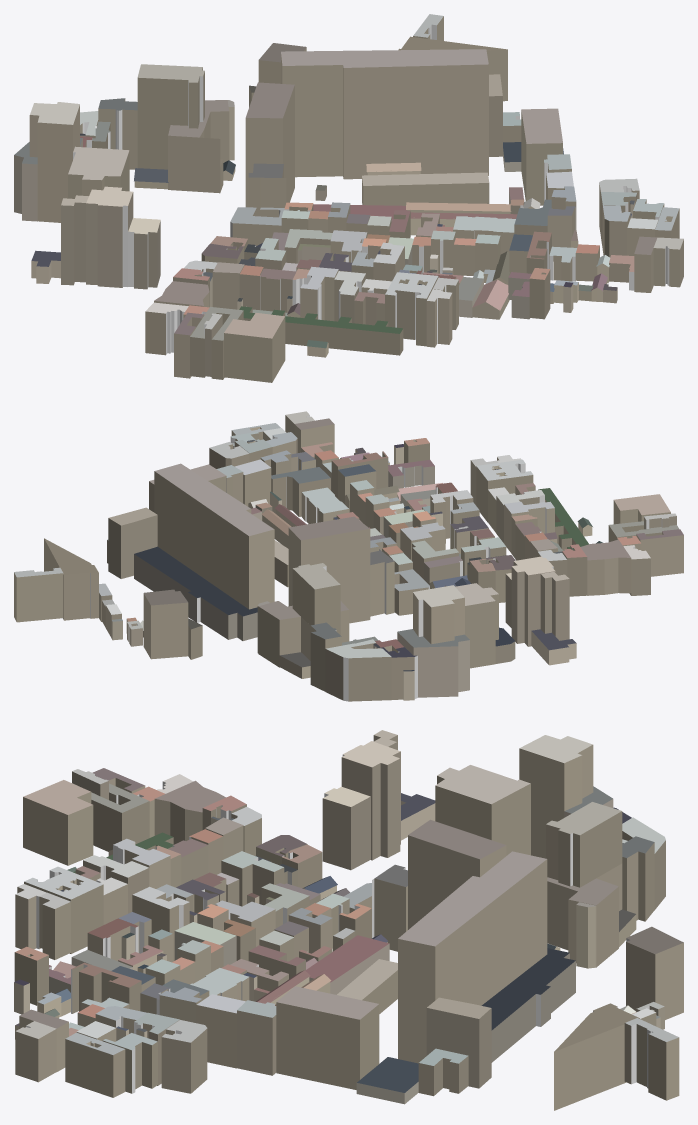
The picture shows the model from 3 angles, top to bottom: view 1: azimuth 30°, elevation 25°; view 2: azimuth 150°, elevation 25°; view 3: azimuth 270°, elevation 25°; orthographic projection. The views are drawn at different scales.
Visible parts, largest first — view 1: tuile; view 2: tuile; view 3: tuile.
Boxes of the visible parts, x1,y1,x2,y2 form: tuile: (14,14,683,382); tuile: (14,411,683,701); tuile: (14,730,683,1110).
Bounding box in the file's own units: 277 × 55.31 × 260.
